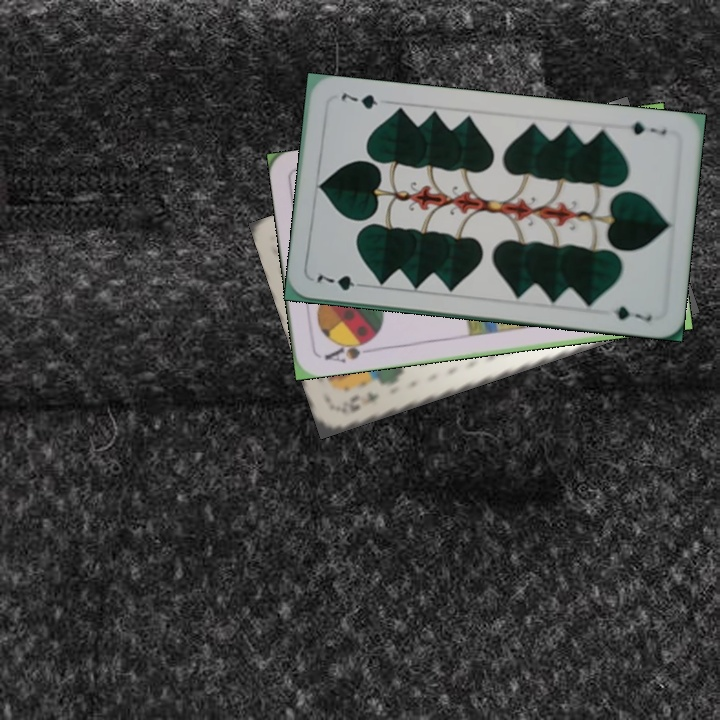EK: (341, 388, 382, 412)
G7: (313, 270, 370, 294), (626, 118, 669, 138)
SA: (321, 335, 377, 366)
